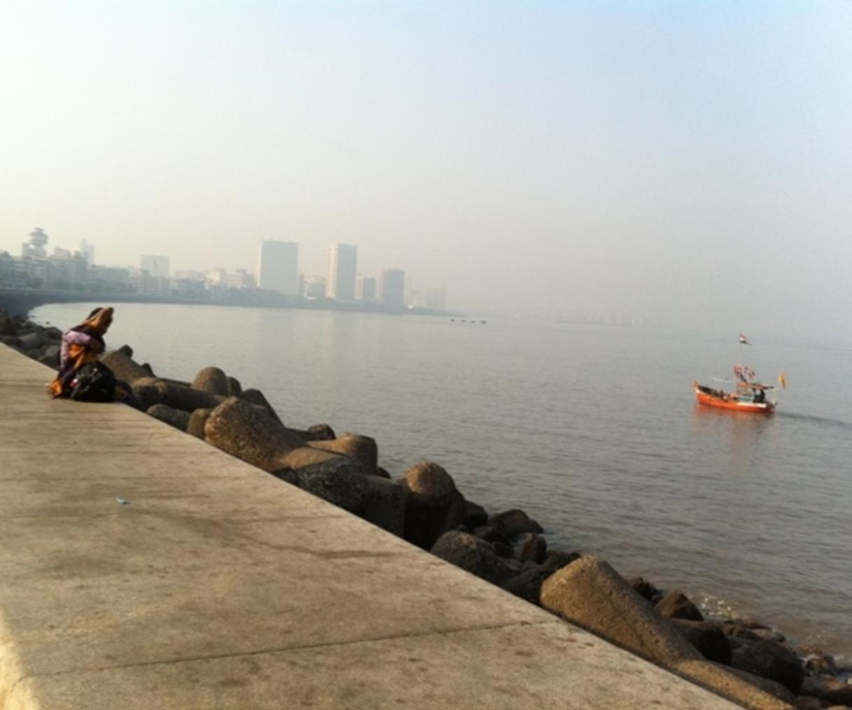backpack: (46, 331, 113, 401), (79, 357, 142, 407), (70, 346, 133, 394), (95, 344, 156, 385), (68, 362, 122, 402), (73, 378, 114, 403)
bear: (196, 387, 459, 539), (197, 387, 355, 471), (133, 363, 236, 422), (141, 380, 215, 424), (481, 527, 546, 563), (170, 367, 227, 403), (482, 508, 543, 541), (189, 366, 230, 395), (516, 533, 546, 563)
bed: (35, 399, 754, 703), (146, 390, 525, 606)
bench: (43, 339, 234, 423), (43, 316, 134, 399), (106, 356, 217, 417), (82, 342, 178, 406), (37, 304, 112, 375), (13, 306, 87, 364), (67, 353, 139, 401), (75, 341, 146, 389), (1, 312, 59, 362), (100, 342, 160, 385)
bird: (189, 387, 443, 525), (197, 387, 355, 471), (138, 378, 290, 448), (117, 368, 242, 439), (95, 358, 230, 415), (46, 306, 126, 402), (61, 328, 156, 405), (261, 419, 374, 474), (235, 387, 338, 443), (437, 527, 531, 582), (186, 366, 268, 417), (151, 365, 234, 415), (187, 390, 255, 443), (166, 379, 240, 427), (103, 354, 165, 411), (67, 353, 139, 401), (75, 341, 146, 389), (141, 380, 215, 424), (294, 431, 377, 470), (478, 508, 544, 556), (159, 391, 223, 436), (120, 370, 189, 411), (100, 344, 161, 387), (141, 396, 205, 433), (187, 364, 237, 407), (236, 388, 283, 424), (190, 365, 226, 393), (516, 533, 546, 563), (210, 369, 241, 395), (184, 406, 209, 438)
boat: (70, 379, 779, 696), (39, 357, 587, 611), (188, 364, 746, 575), (64, 340, 467, 537), (161, 425, 490, 593), (196, 389, 459, 546), (237, 391, 376, 473), (90, 371, 241, 440), (688, 353, 818, 419), (61, 352, 201, 412), (43, 316, 134, 399), (119, 354, 227, 413), (16, 304, 103, 376), (691, 370, 781, 413), (464, 507, 541, 557), (67, 353, 139, 401), (75, 341, 146, 389), (0, 312, 61, 361), (99, 344, 165, 385), (399, 296, 489, 323), (692, 389, 777, 417), (718, 363, 776, 397), (692, 381, 764, 408), (704, 373, 769, 401), (2, 317, 46, 344), (15, 319, 61, 343), (743, 372, 782, 398), (732, 363, 763, 395), (632, 575, 662, 604)
cat: (199, 387, 362, 471), (431, 529, 524, 592), (472, 523, 543, 560), (476, 507, 543, 542), (144, 402, 190, 432), (516, 533, 546, 563)
chair: (52, 323, 122, 397), (54, 303, 113, 372), (71, 337, 140, 394), (58, 353, 131, 401), (105, 357, 159, 409), (97, 345, 157, 390), (630, 576, 661, 605)
cow: (96, 343, 192, 408), (124, 362, 229, 418), (56, 335, 144, 395), (154, 375, 239, 429), (85, 345, 156, 400), (474, 509, 542, 554), (138, 377, 221, 412), (144, 391, 214, 429), (102, 345, 166, 385), (132, 360, 205, 395), (109, 365, 164, 410), (122, 351, 194, 385), (481, 527, 546, 563), (170, 367, 227, 403), (124, 376, 177, 411), (135, 374, 202, 401), (144, 401, 191, 432), (160, 383, 217, 408), (139, 361, 191, 384), (189, 366, 230, 395), (150, 367, 190, 390), (516, 533, 546, 563)
dog: (197, 387, 355, 471), (395, 461, 482, 552), (107, 349, 213, 410), (82, 342, 178, 406), (141, 371, 242, 431), (44, 333, 130, 402), (54, 303, 113, 372), (103, 354, 165, 411), (131, 371, 214, 413), (67, 353, 139, 401), (154, 392, 226, 436), (121, 380, 191, 422), (113, 350, 185, 390), (173, 365, 234, 410), (97, 345, 160, 386), (481, 527, 546, 563), (479, 508, 543, 540), (118, 376, 169, 411), (144, 402, 191, 432), (189, 366, 230, 395), (516, 533, 546, 563)
elephant: (395, 461, 482, 552), (46, 306, 126, 402), (83, 352, 195, 415), (132, 365, 230, 420), (56, 335, 144, 395), (85, 345, 156, 400), (64, 362, 140, 405), (133, 381, 201, 424), (102, 345, 166, 385), (121, 354, 192, 390), (141, 396, 205, 433), (127, 376, 188, 411), (170, 367, 227, 403), (189, 366, 230, 395), (516, 533, 546, 563)
handbag: (94, 345, 155, 384), (69, 360, 122, 402)
horse: (106, 356, 217, 417), (49, 335, 145, 404), (82, 342, 178, 406), (137, 370, 228, 424), (103, 354, 165, 411), (113, 350, 185, 390), (128, 376, 206, 412), (99, 343, 162, 386), (66, 366, 134, 405), (125, 361, 192, 398), (170, 367, 227, 403), (118, 376, 169, 411), (144, 402, 191, 432), (189, 366, 230, 395)
kite: (48, 338, 136, 403), (75, 341, 146, 389), (99, 343, 162, 386)
person: (181, 380, 778, 662), (35, 337, 535, 554), (195, 387, 622, 575), (51, 329, 361, 508), (196, 387, 459, 539), (46, 322, 297, 444), (190, 388, 372, 480), (130, 372, 324, 458), (41, 304, 184, 406), (64, 345, 248, 423), (90, 371, 241, 440), (397, 461, 485, 551), (242, 398, 361, 462), (43, 306, 117, 400), (107, 349, 213, 410), (47, 369, 171, 421), (16, 304, 103, 376), (261, 419, 374, 474), (82, 342, 178, 406), (177, 374, 263, 445), (235, 387, 338, 443), (63, 344, 141, 402), (101, 375, 190, 423), (186, 366, 268, 417), (151, 365, 234, 415), (71, 320, 134, 385), (422, 483, 486, 546), (166, 379, 240, 427), (103, 354, 165, 411), (130, 370, 204, 415), (109, 344, 191, 384), (294, 431, 377, 470), (96, 343, 156, 394), (698, 369, 778, 407), (56, 318, 106, 378), (44, 336, 92, 397), (483, 518, 546, 562), (58, 339, 121, 383), (60, 306, 113, 354), (58, 353, 112, 400), (141, 396, 205, 433), (66, 366, 128, 403), (37, 325, 72, 389), (25, 320, 62, 378), (172, 366, 225, 405), (724, 363, 780, 396), (9, 319, 60, 354), (114, 343, 161, 379), (120, 376, 167, 411), (651, 590, 704, 621), (59, 325, 104, 357), (728, 376, 774, 406), (53, 334, 94, 367), (713, 365, 761, 393), (189, 365, 229, 395), (103, 345, 141, 376), (75, 306, 112, 336), (718, 375, 764, 398), (27, 327, 54, 364), (753, 369, 786, 398), (457, 501, 487, 532), (630, 575, 661, 604), (732, 363, 771, 386), (742, 368, 781, 391), (734, 366, 762, 398), (518, 532, 546, 563), (210, 369, 241, 395), (30, 323, 61, 349), (31, 339, 59, 367), (731, 363, 753, 394), (742, 380, 770, 402), (765, 370, 787, 392)
sheep: (50, 329, 131, 403), (124, 362, 229, 418), (154, 375, 239, 429), (67, 353, 139, 401), (96, 343, 156, 394), (144, 380, 221, 416), (128, 374, 195, 413), (169, 393, 224, 439), (481, 527, 546, 563), (170, 367, 227, 403), (144, 400, 197, 432), (120, 376, 167, 411), (162, 387, 217, 412), (189, 366, 230, 395), (200, 371, 239, 398), (516, 533, 546, 563), (184, 406, 210, 438)
skateboard: (58, 353, 131, 401)
snowboard: (47, 346, 122, 399)
suitcase: (94, 345, 155, 384)
surfboard: (20, 386, 796, 694), (100, 413, 622, 639), (165, 384, 457, 545), (41, 319, 123, 396), (44, 301, 112, 375), (58, 353, 131, 401), (75, 341, 146, 389), (11, 310, 76, 359), (42, 338, 94, 389), (100, 342, 160, 385), (60, 306, 113, 354), (45, 358, 105, 397), (53, 334, 94, 367), (65, 312, 110, 341), (78, 306, 112, 334), (63, 324, 105, 346), (32, 342, 57, 370)
teddy bear: (173, 365, 234, 410), (189, 366, 230, 395)
umbrella: (45, 323, 133, 397), (37, 304, 112, 375), (13, 306, 87, 364), (151, 365, 234, 415), (67, 353, 139, 401), (75, 341, 146, 389), (474, 509, 542, 554), (100, 342, 160, 385), (59, 302, 112, 349), (0, 319, 57, 352), (482, 508, 543, 535), (185, 365, 227, 395), (15, 319, 61, 343)
